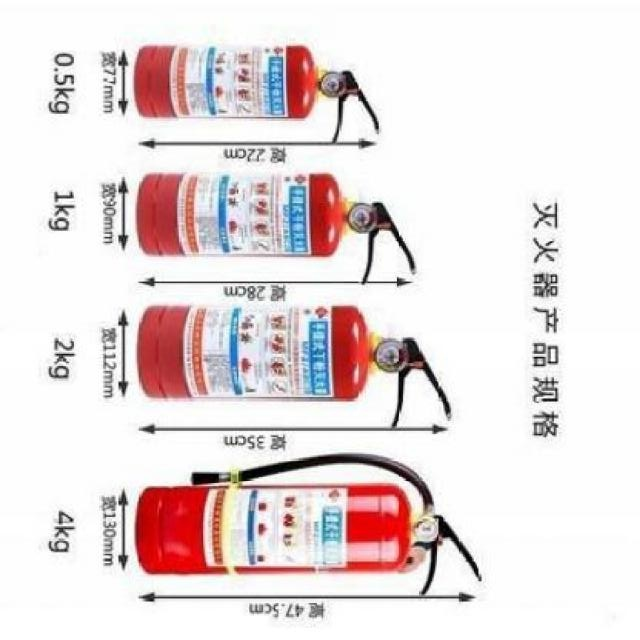fire extinguisher: (132, 452, 483, 596), (137, 304, 452, 428), (137, 172, 417, 285), (133, 46, 381, 146)
